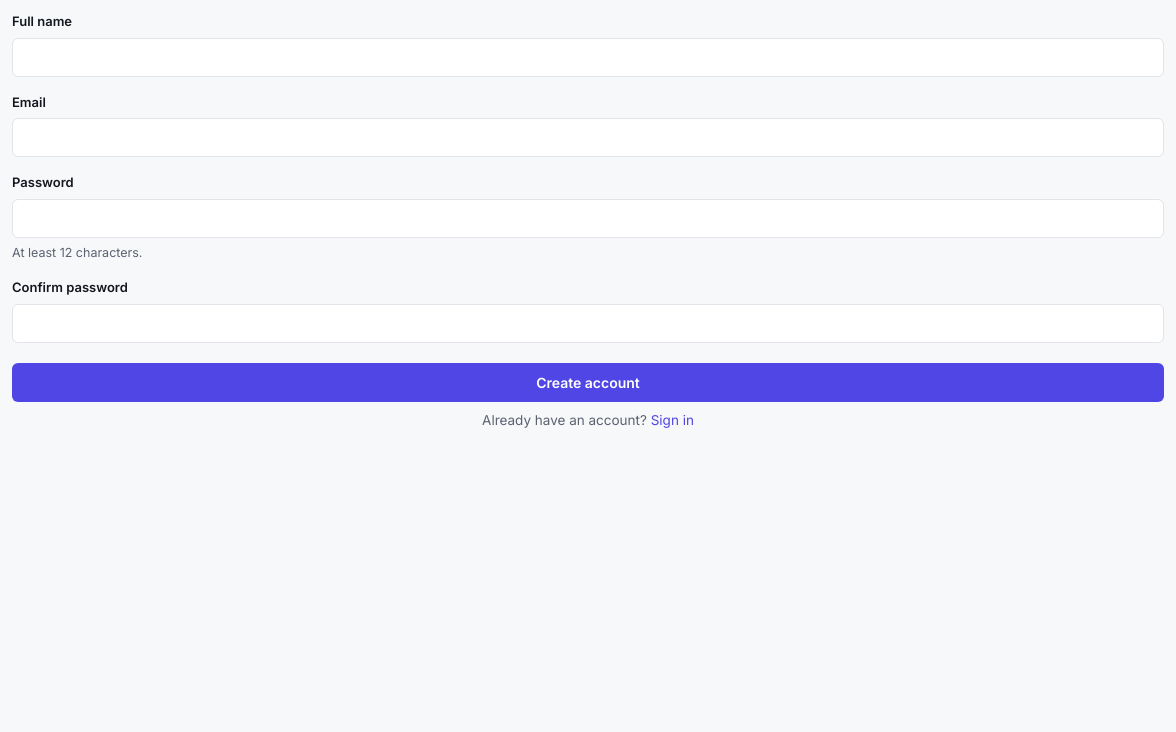
Scenario: SignupForm › shows validation errors when submitted empty
Click the button "Create account".
click(588, 382)  # box [12,363,1164,402]
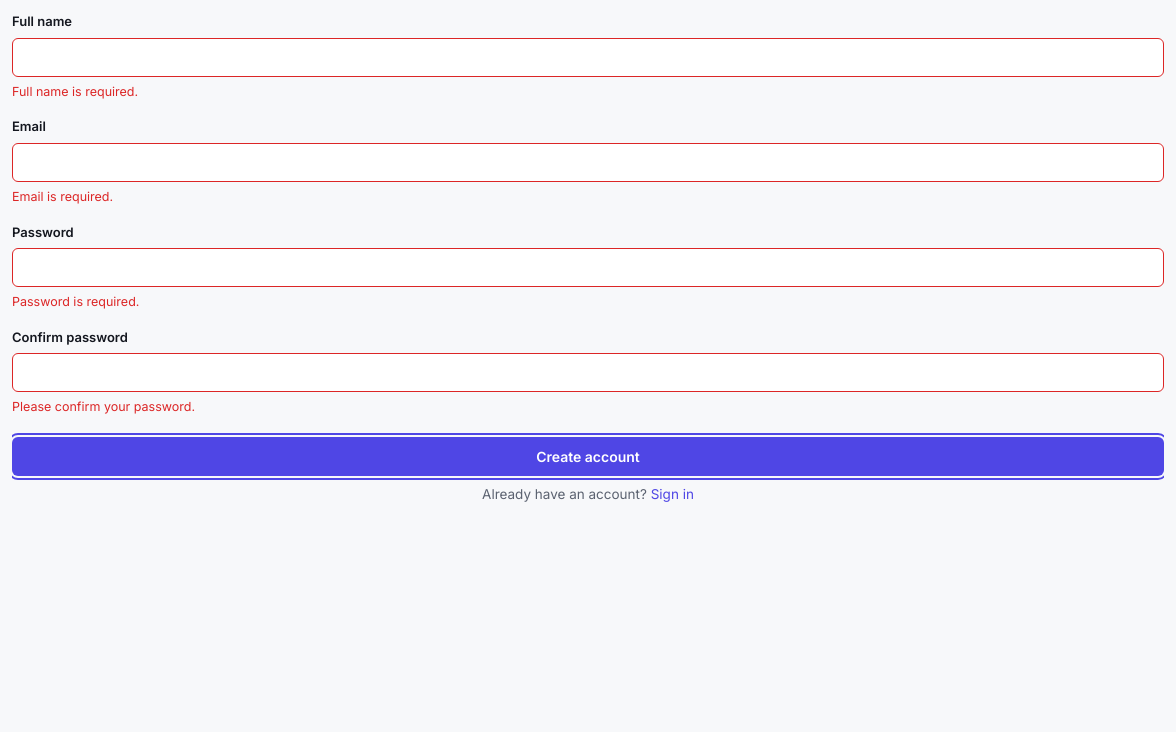
Expected: the text "Full name is required." is shown, [12,84,138,98]
Expected: the text "Email is required." is shown, [12,189,113,204]
Expected: the text "Password is required." is shown, [12,294,139,309]
